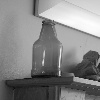beer: (33, 16, 68, 84)
